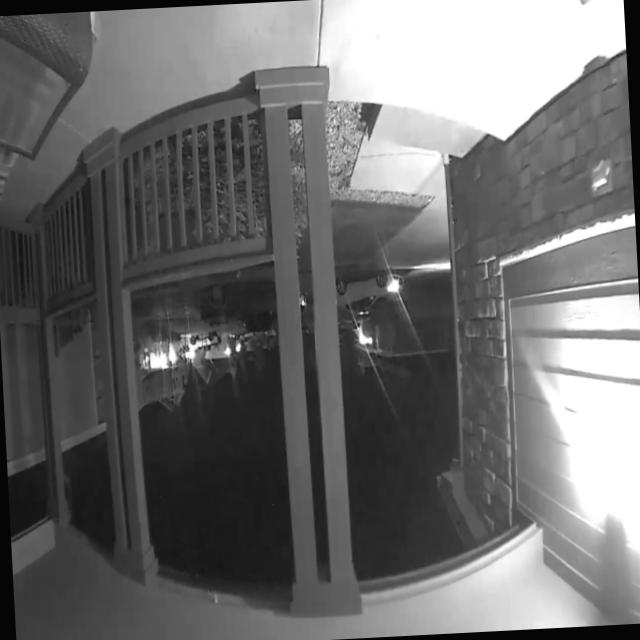car: (193, 278, 279, 342), (336, 260, 409, 318), (184, 317, 224, 358)
